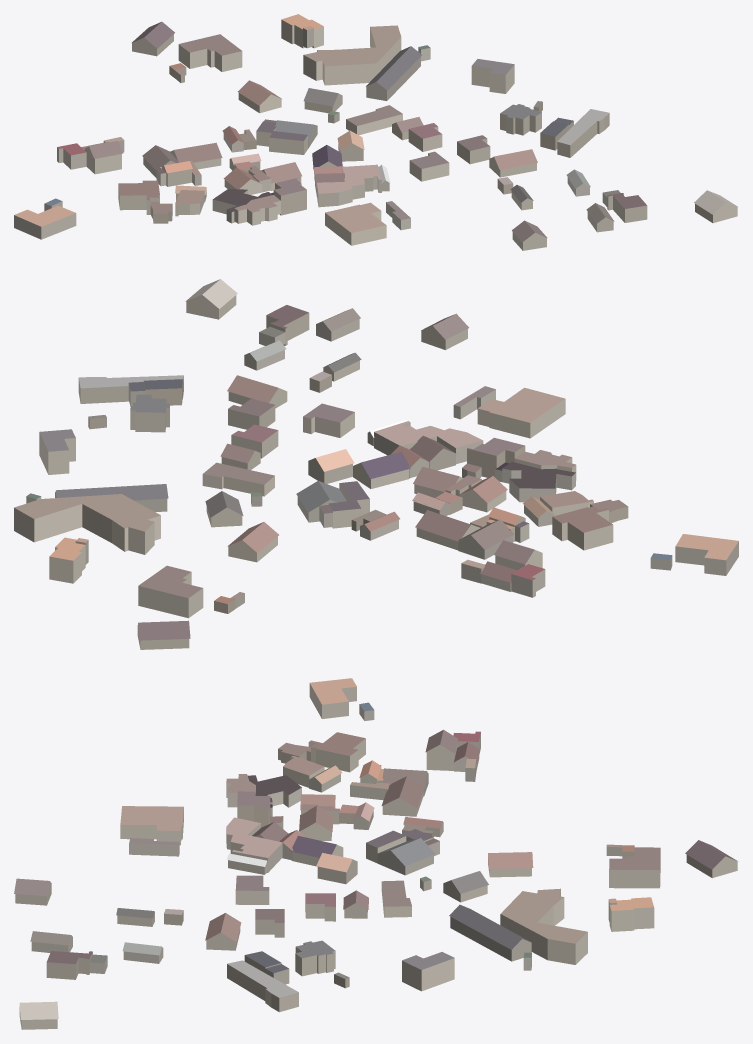
3 renders of one model, top to bottom at view 1: azimuth 30°, elevation 25°; view 2: azimuth 150°, elevation 25°; view 3: azimuth 270°, elevation 25°, orthographic. The views are drawn at different scales.
Visible parts, largest first — view 1: tuile; view 2: tuile; view 3: tuile.
Part boxes in pixels (box(x1,y1,x2,y2)): tuile: box(14, 14, 737, 250); tuile: box(14, 279, 738, 649); tuile: box(14, 678, 737, 1029).
Size of the model in its own units: 253 by 18.48 by 246.
